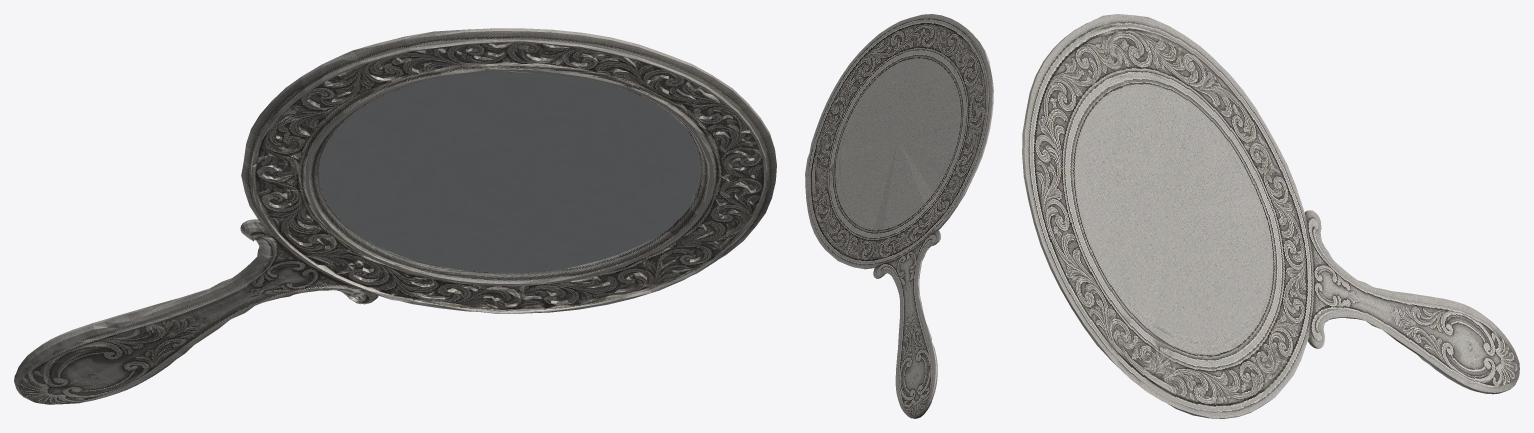
Rendered from ewm_handmirror.glb.
The picture shows the model from 3 angles, left to right: view 1: azimuth 30°, elevation 25°; view 2: azimuth 150°, elevation 25°; view 3: azimuth 270°, elevation 25°; orthographic projection. The views are drawn at different scales.
Parts seen in each view (by area): view 1: ewm_handmirror; view 2: ewm_handmirror; view 3: ewm_handmirror.
Part boxes in pixels (x1=…): ewm_handmirror: x1=14, y1=28, x2=776, y2=404; ewm_handmirror: x1=805, y1=14, x2=993, y2=418; ewm_handmirror: x1=1022, y1=14, x2=1519, y2=418.
Size of the model in its own units: 0.1731 by 0.1811 by 0.1934.
1 material, 1 textured.
